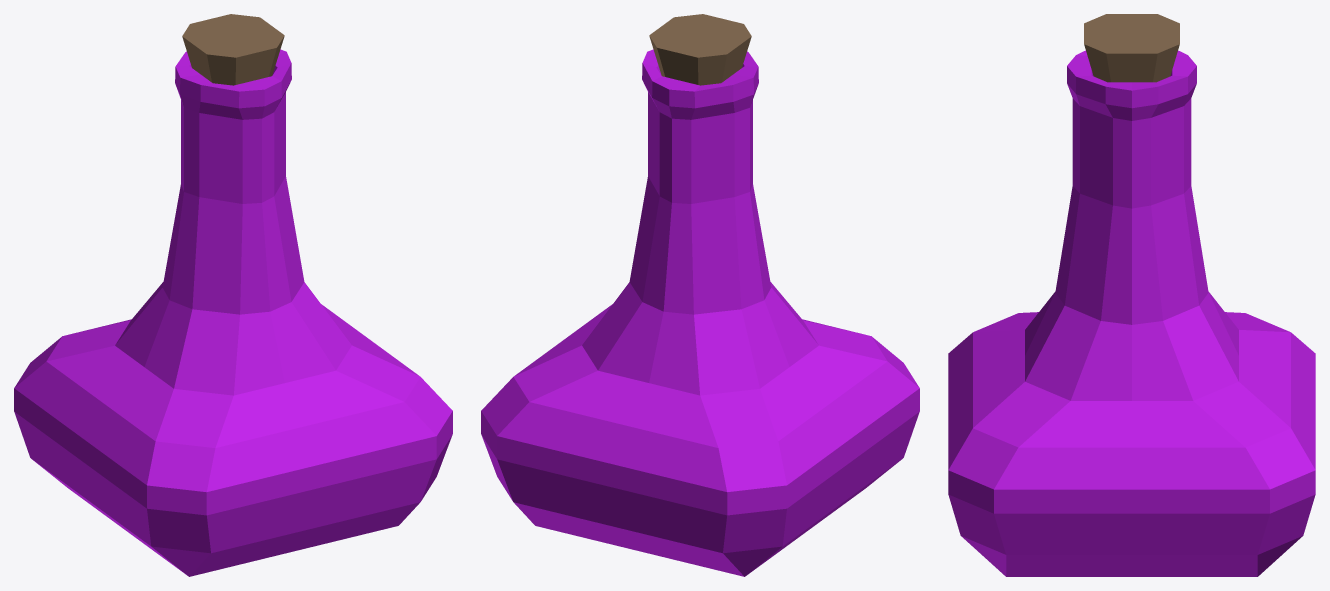
File: purpleBottle.glb
3 renders of one model, left to right at view 1: azimuth 30°, elevation 25°; view 2: azimuth 150°, elevation 25°; view 3: azimuth 270°, elevation 25°, orthographic. The views are drawn at different scales.
Visible parts, largest first — view 1: Large_Purple_8; view 2: Large_Purple_8; view 3: Large_Purple_8.
Part boxes in pixels (x1,y1,x2,y2): Large_Purple_8: [14, 14, 452, 576]; Large_Purple_8: [481, 14, 919, 576]; Large_Purple_8: [948, 14, 1315, 576].
Bounding box in the file's own units: 0.5206 × 0.7665 × 0.5206.
